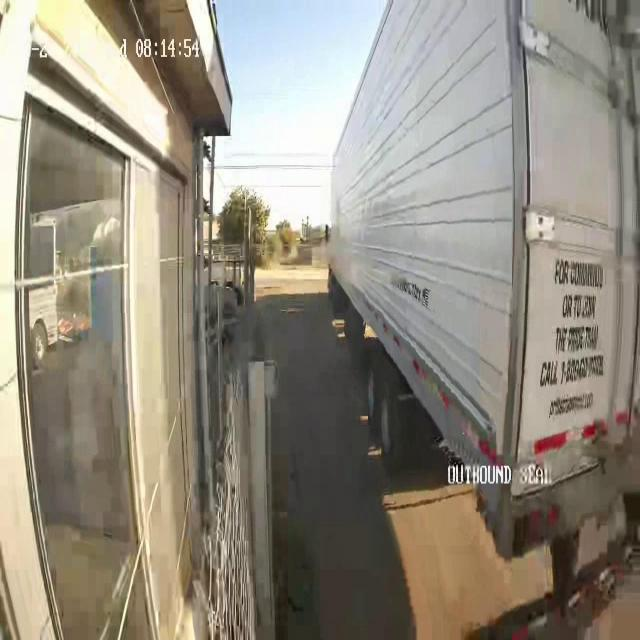TRUCK_CONTAINER: (322, 1, 639, 640)
